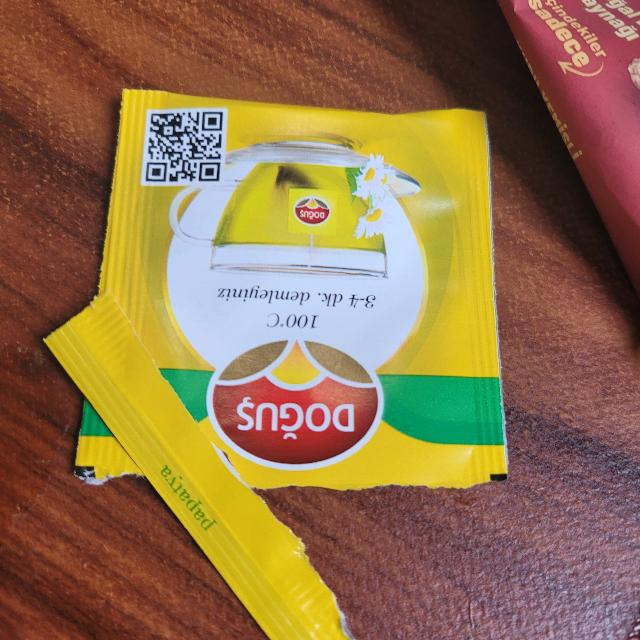Kagit: (97, 81, 511, 498)
